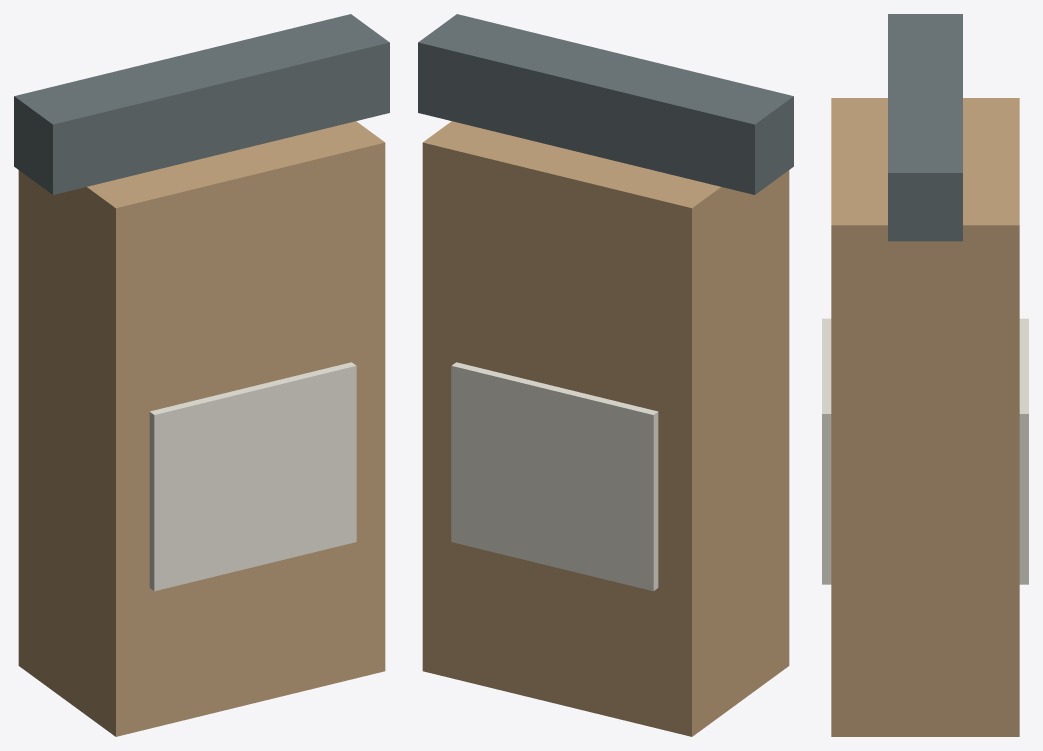
Rendered from supermarket-operations-coffee-pouch-d4af200e__26949.glb.
3 views of the same model, side by side, from view 1: azimuth 30°, elevation 25°; view 2: azimuth 150°, elevation 25°; view 3: azimuth 270°, elevation 25° (orthographic). The views are drawn at different scales.
Parts seen in each view (by area): view 1: coffee-pouch; view 2: coffee-pouch; view 3: coffee-pouch.
Part boxes in pixels (box(x1,y1,x2,y2)): coffee-pouch: box(14, 14, 389, 736); coffee-pouch: box(418, 14, 793, 736); coffee-pouch: box(822, 14, 1028, 736).
Size of the model in its own units: 0.1 by 0.17 by 0.055.
